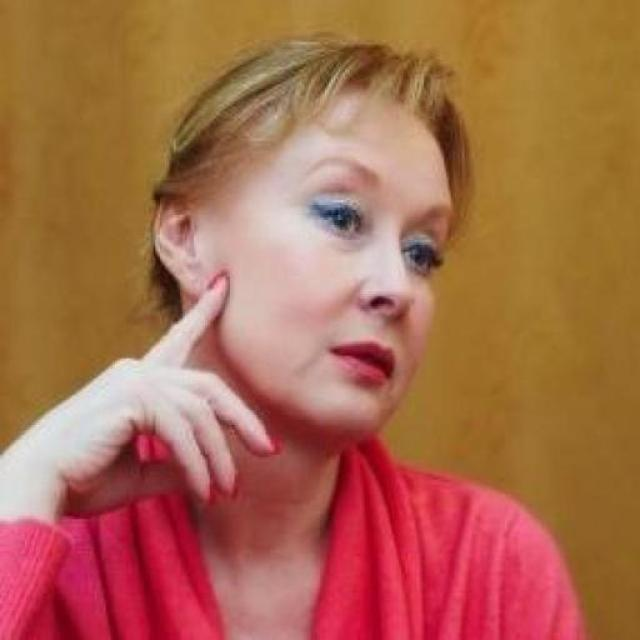bareface: (144, 51, 470, 452)
